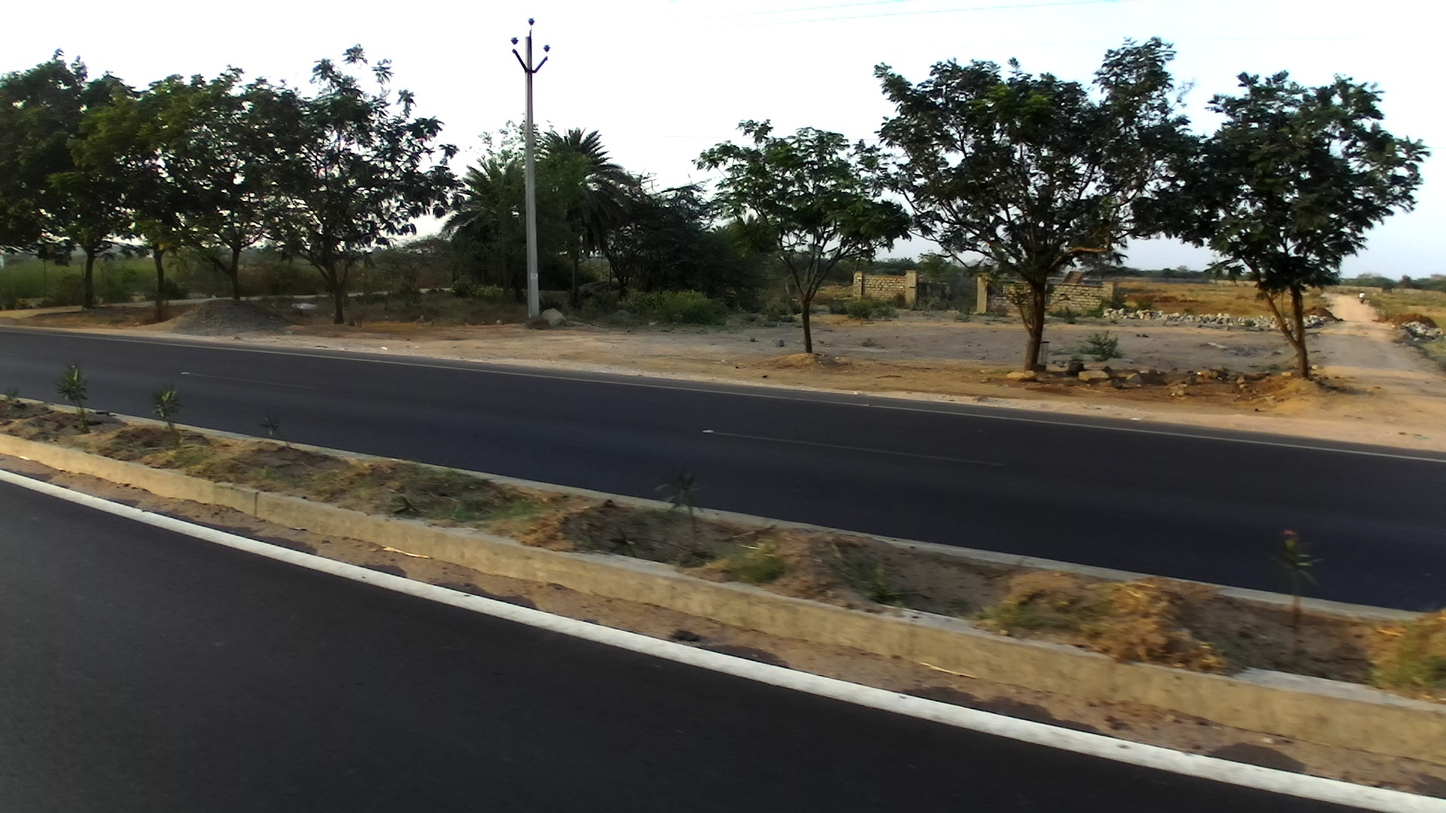motorcycle: (1358, 295, 1365, 305)
rider: (1359, 294, 1366, 303)
